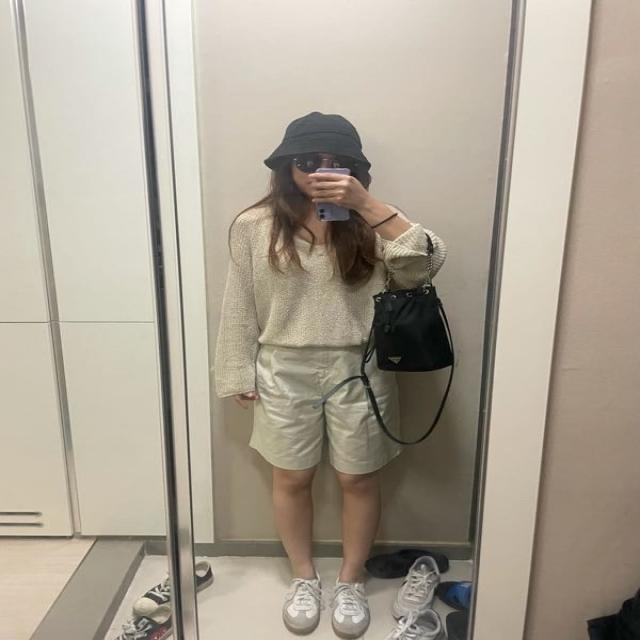longsleeve: (212, 195, 437, 396)
shortpants: (248, 342, 403, 475)
